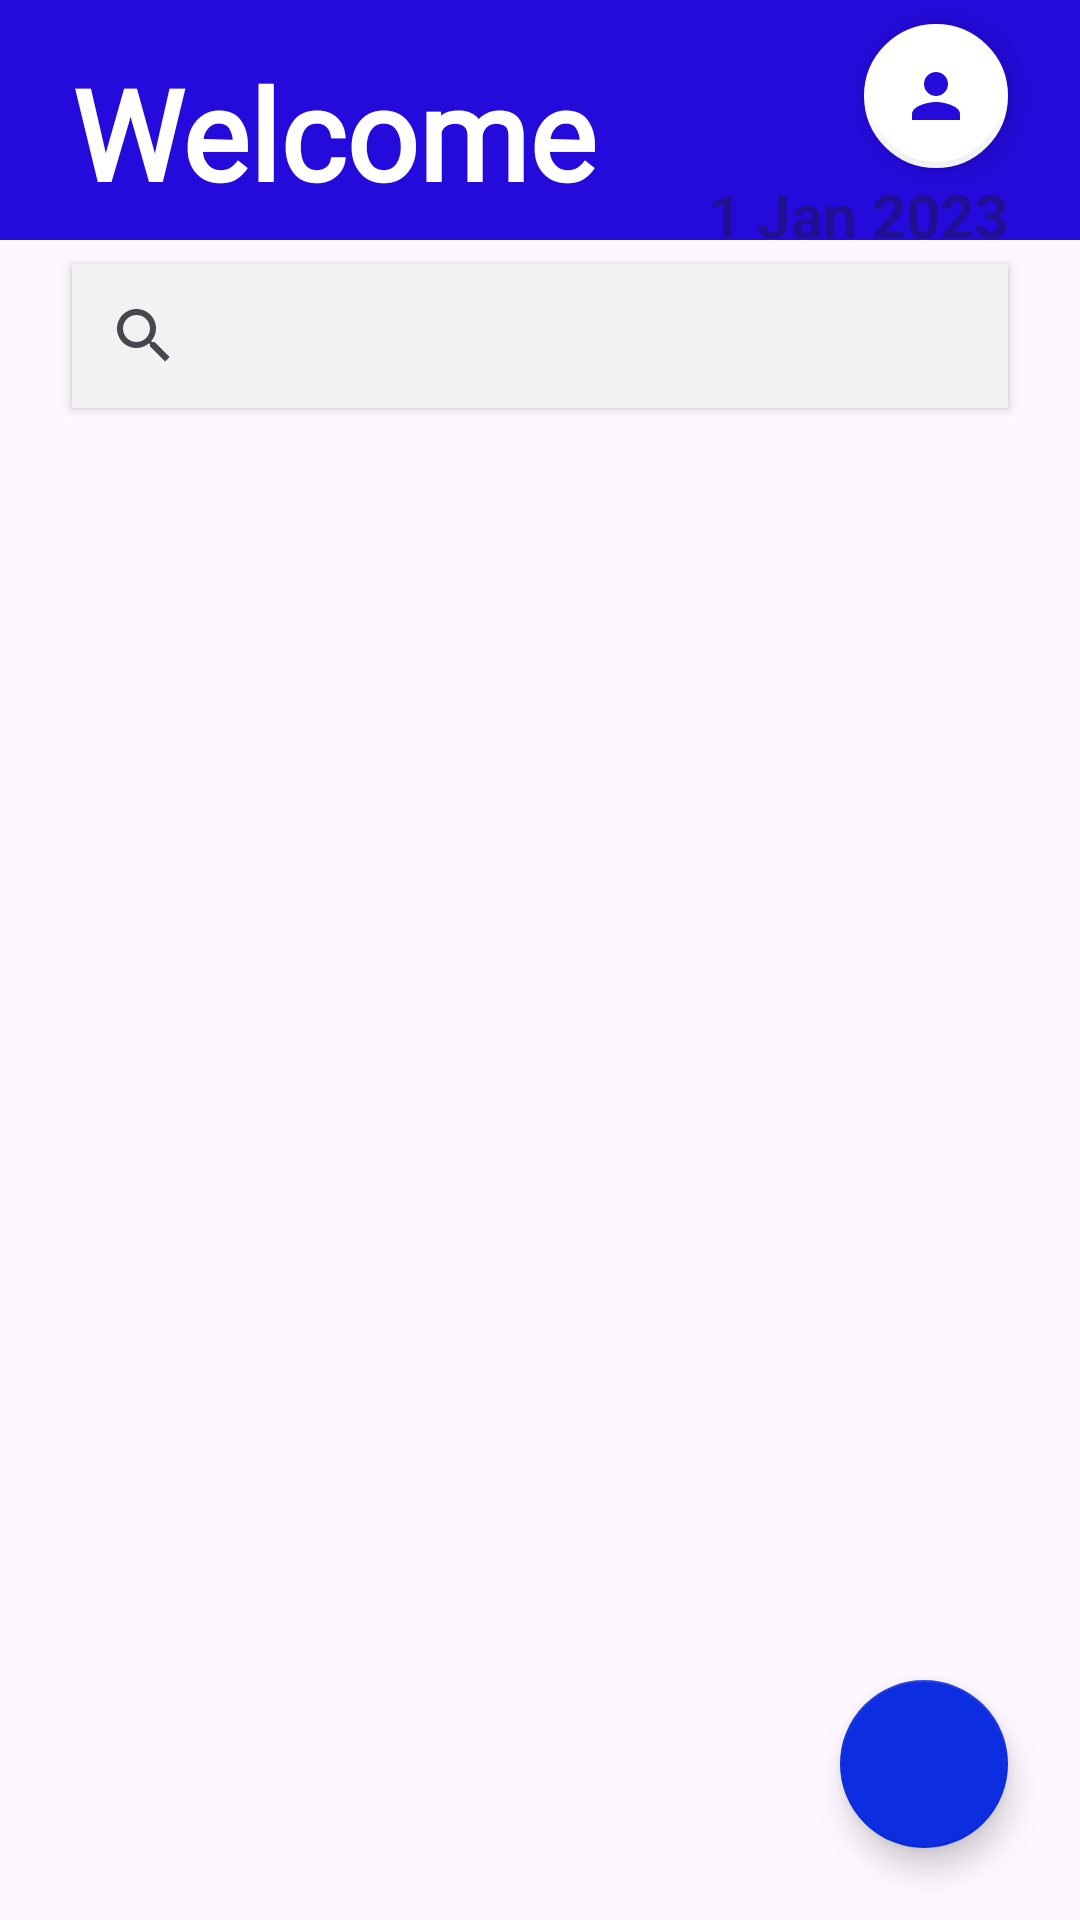

Where to tap for icons on this 1080*1920 app screen, as (x,y):
account: (936,96)
